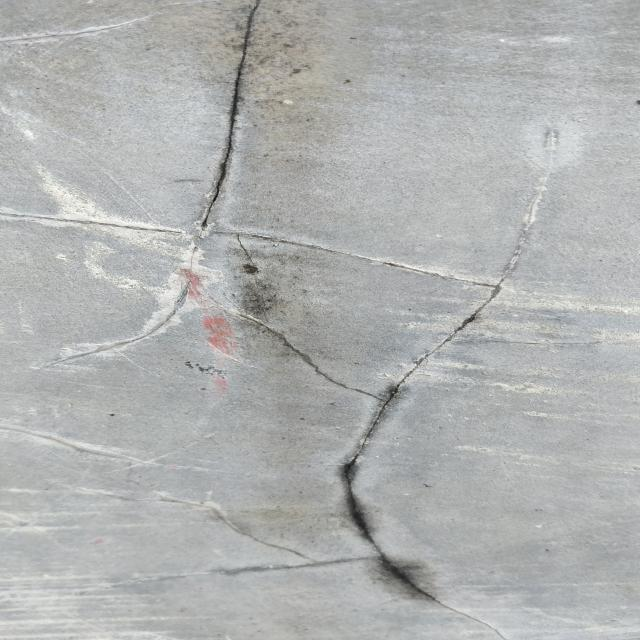Crack: (14, 2, 542, 624)
